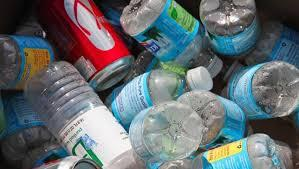Aluminum can: (44, 0, 129, 82)
Plastic bottle: (141, 64, 204, 169), (232, 48, 297, 119), (193, 0, 267, 60)
